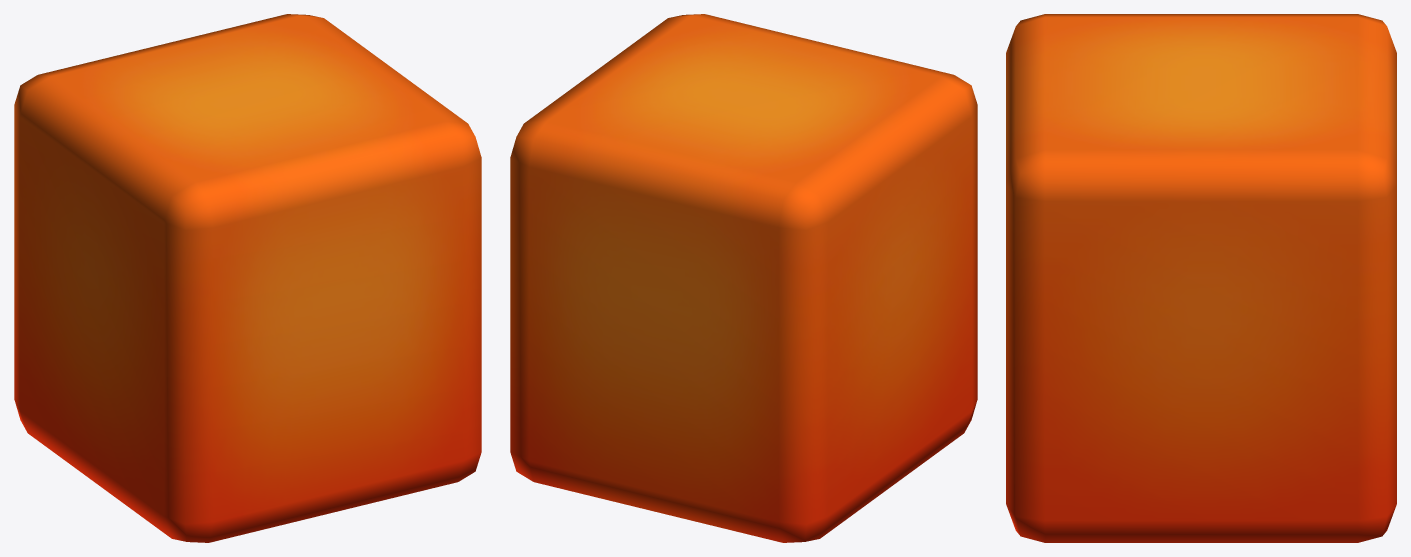
The model's file is FX_box_orange.fbx.
3 renders of one model, left to right at view 1: azimuth 30°, elevation 25°; view 2: azimuth 150°, elevation 25°; view 3: azimuth 270°, elevation 25°, orthographic. The views are drawn at different scales.
Visible parts, largest first — view 1: FX_box_orange; view 2: FX_box_orange; view 3: FX_box_orange.
Part boxes in pixels (x1,y1,x2,y2): FX_box_orange: [14, 14, 481, 542]; FX_box_orange: [510, 14, 977, 542]; FX_box_orange: [1006, 14, 1396, 542].
Bounding box in the file's own units: 100 × 110 × 100.
Materials: 1 (1 with a texture image).
